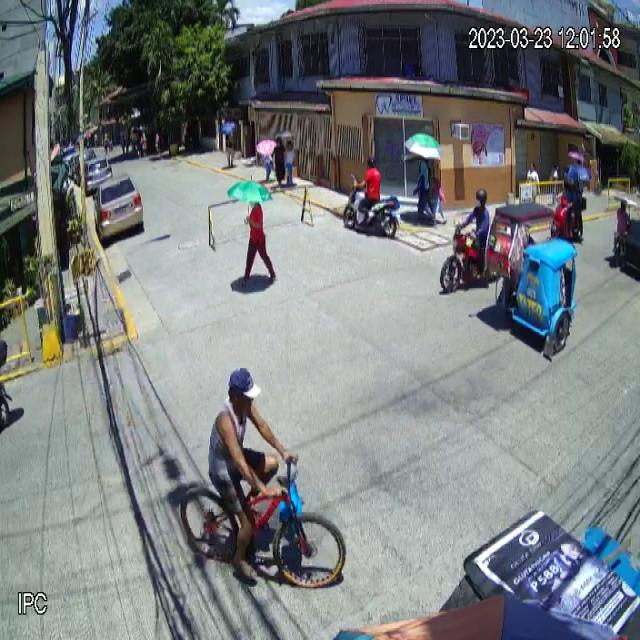Motorcycle: (342, 172, 400, 240)
Tricycle: (492, 198, 580, 354)
